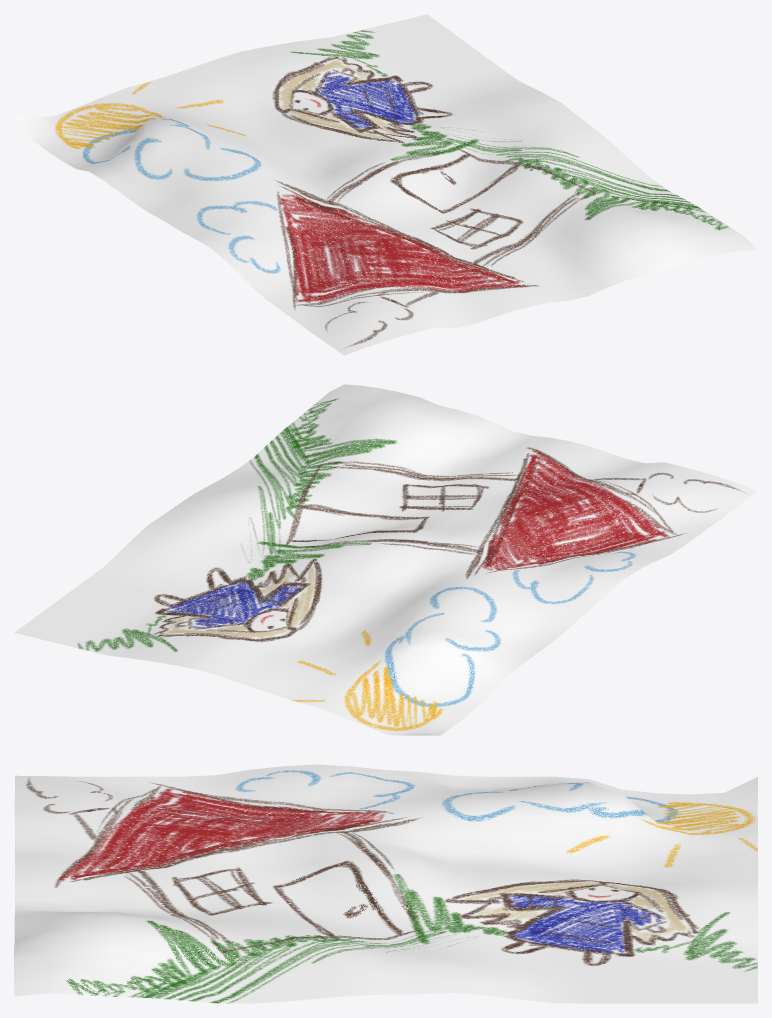
Rendered from draw.fbx.
The picture shows the model from 3 angles, top to bottom: view 1: azimuth 30°, elevation 25°; view 2: azimuth 150°, elevation 25°; view 3: azimuth 270°, elevation 25°; orthographic projection. The views are drawn at different scales.
Parts seen in each view (by area): view 1: Plane; view 2: Plane; view 3: Plane.
Boxes of the visible parts, bbox=[...] form: Plane: bbox=[14, 14, 757, 355]; Plane: bbox=[14, 384, 757, 735]; Plane: bbox=[14, 764, 757, 1003].
Bounding box in the file's own units: 248 × 22.07 × 342.
